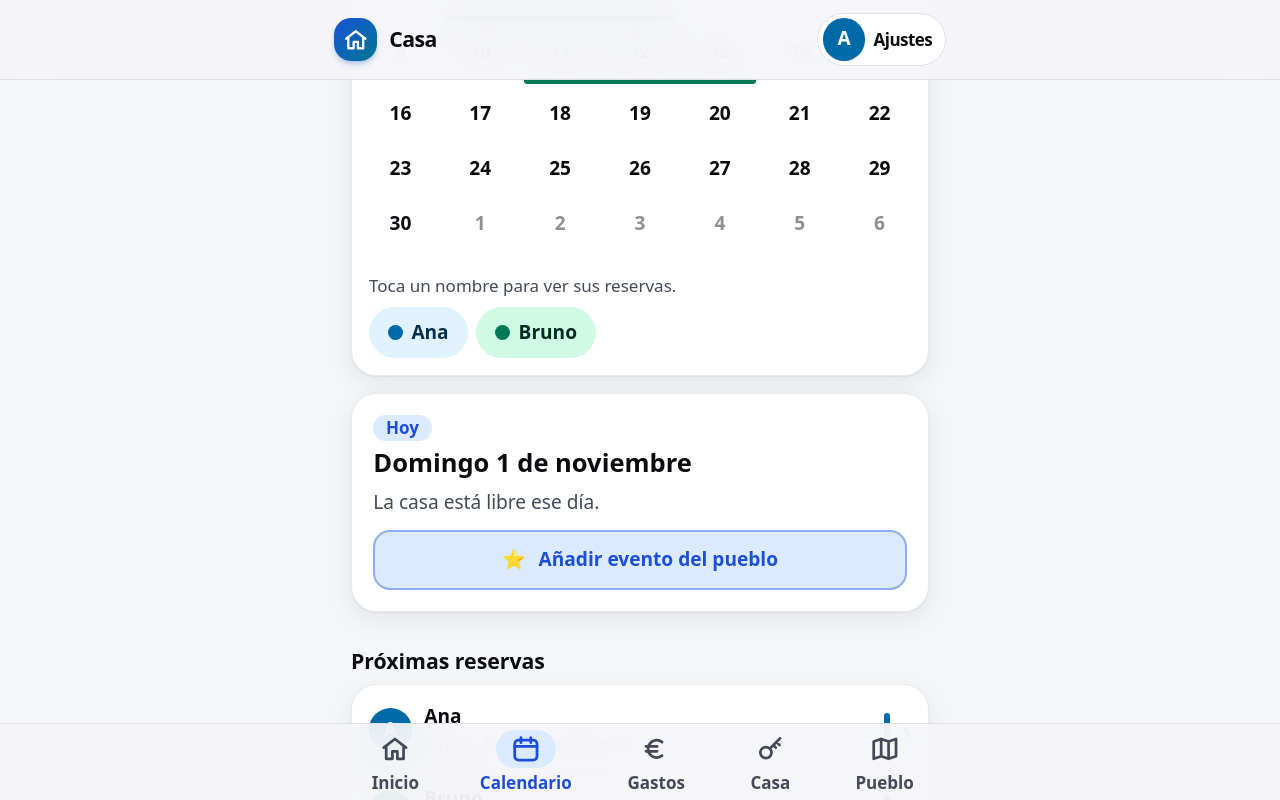
Test case: calendario › al tocar un nombre de la leyenda se ven solo las reservas de esa persona
The width and height of the screenshot is (1280, 800).
(page scrolled)
Click the button "Bruno".
click(536, 333)  # box [476,307,596,358]
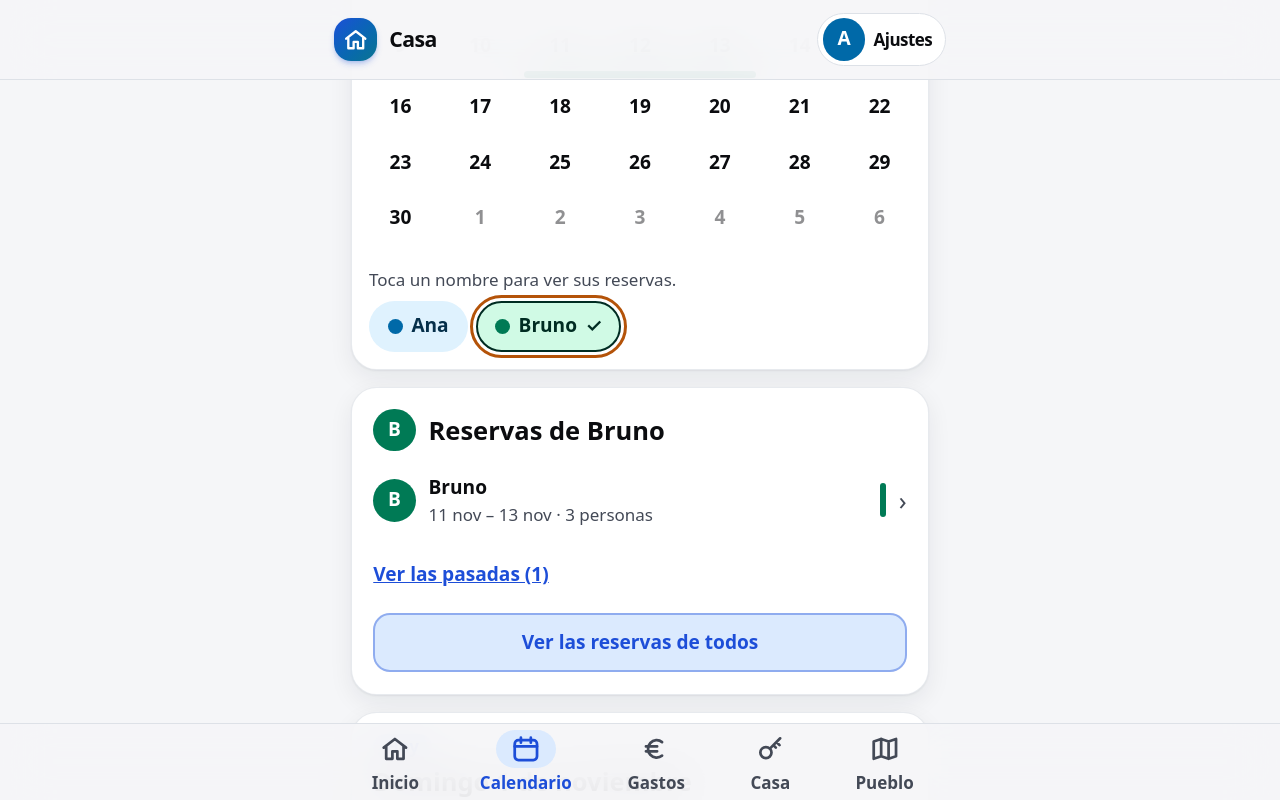
Expected: the text "2 personas" is not shown
Expected: the text "11 nov – 13 nov · 3 personas" is shown, [428,504,653,526]
Click the button "Ver las pasadas (1)".
click(461, 575)  # box [373,549,549,600]
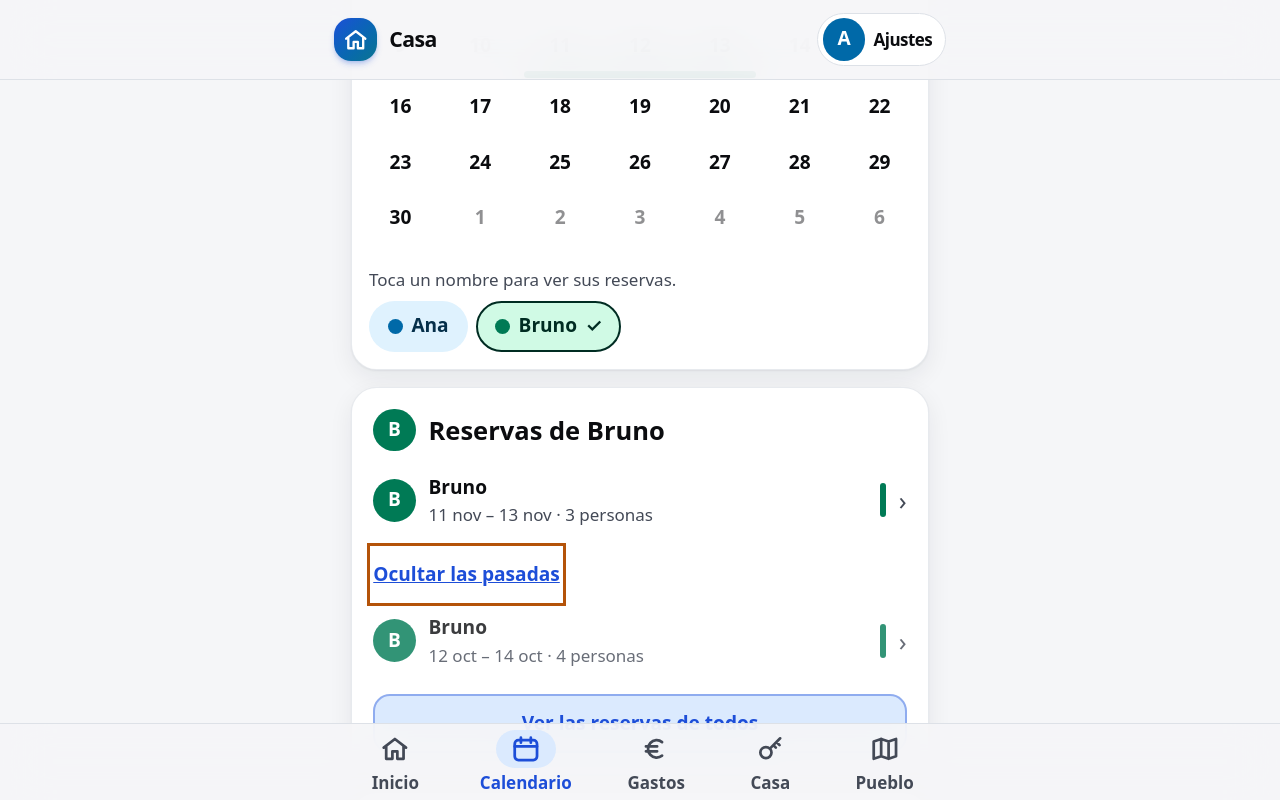
Expected: the text "12 oct – 14 oct · 4 personas" is shown, [428,644,644,667]
Click the button "Bruno ✓".
click(549, 326)  # box [476,301,621,352]
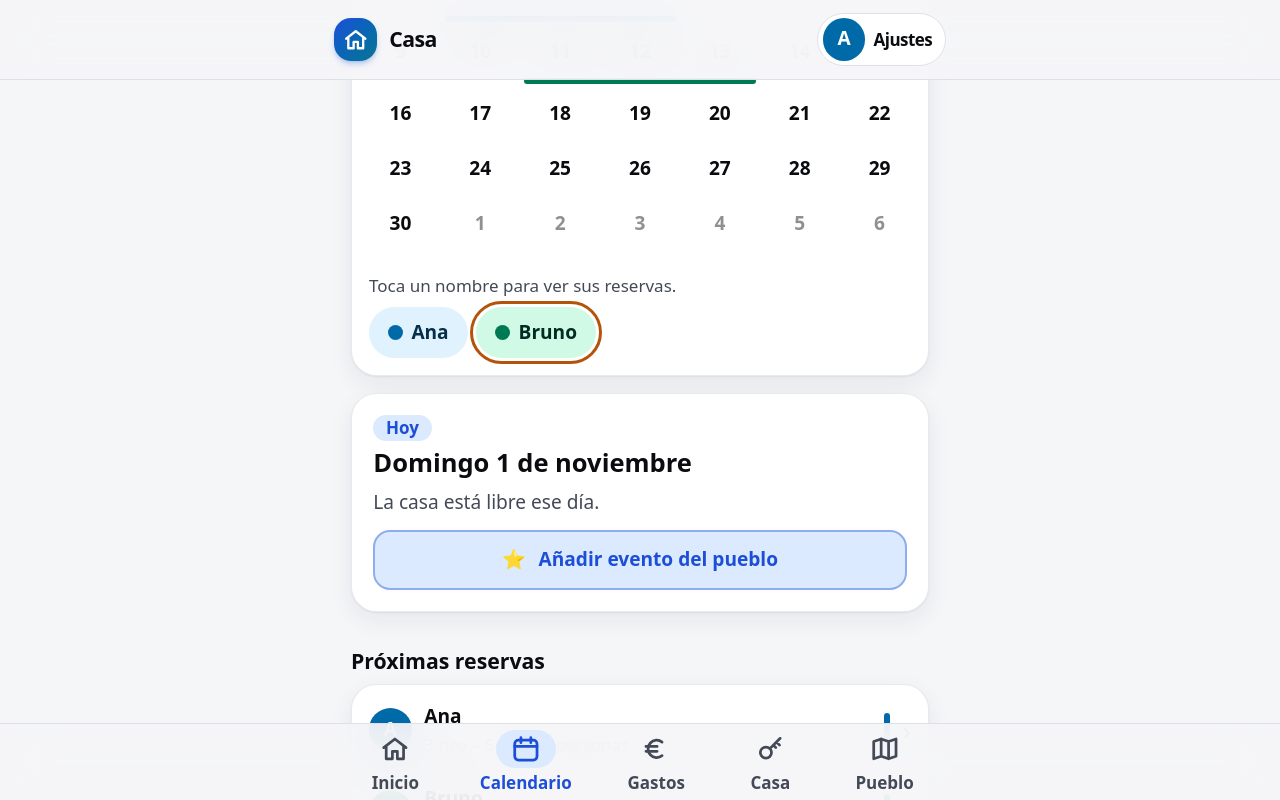
Expected: the heading "Reservas de Bruno" is gone
